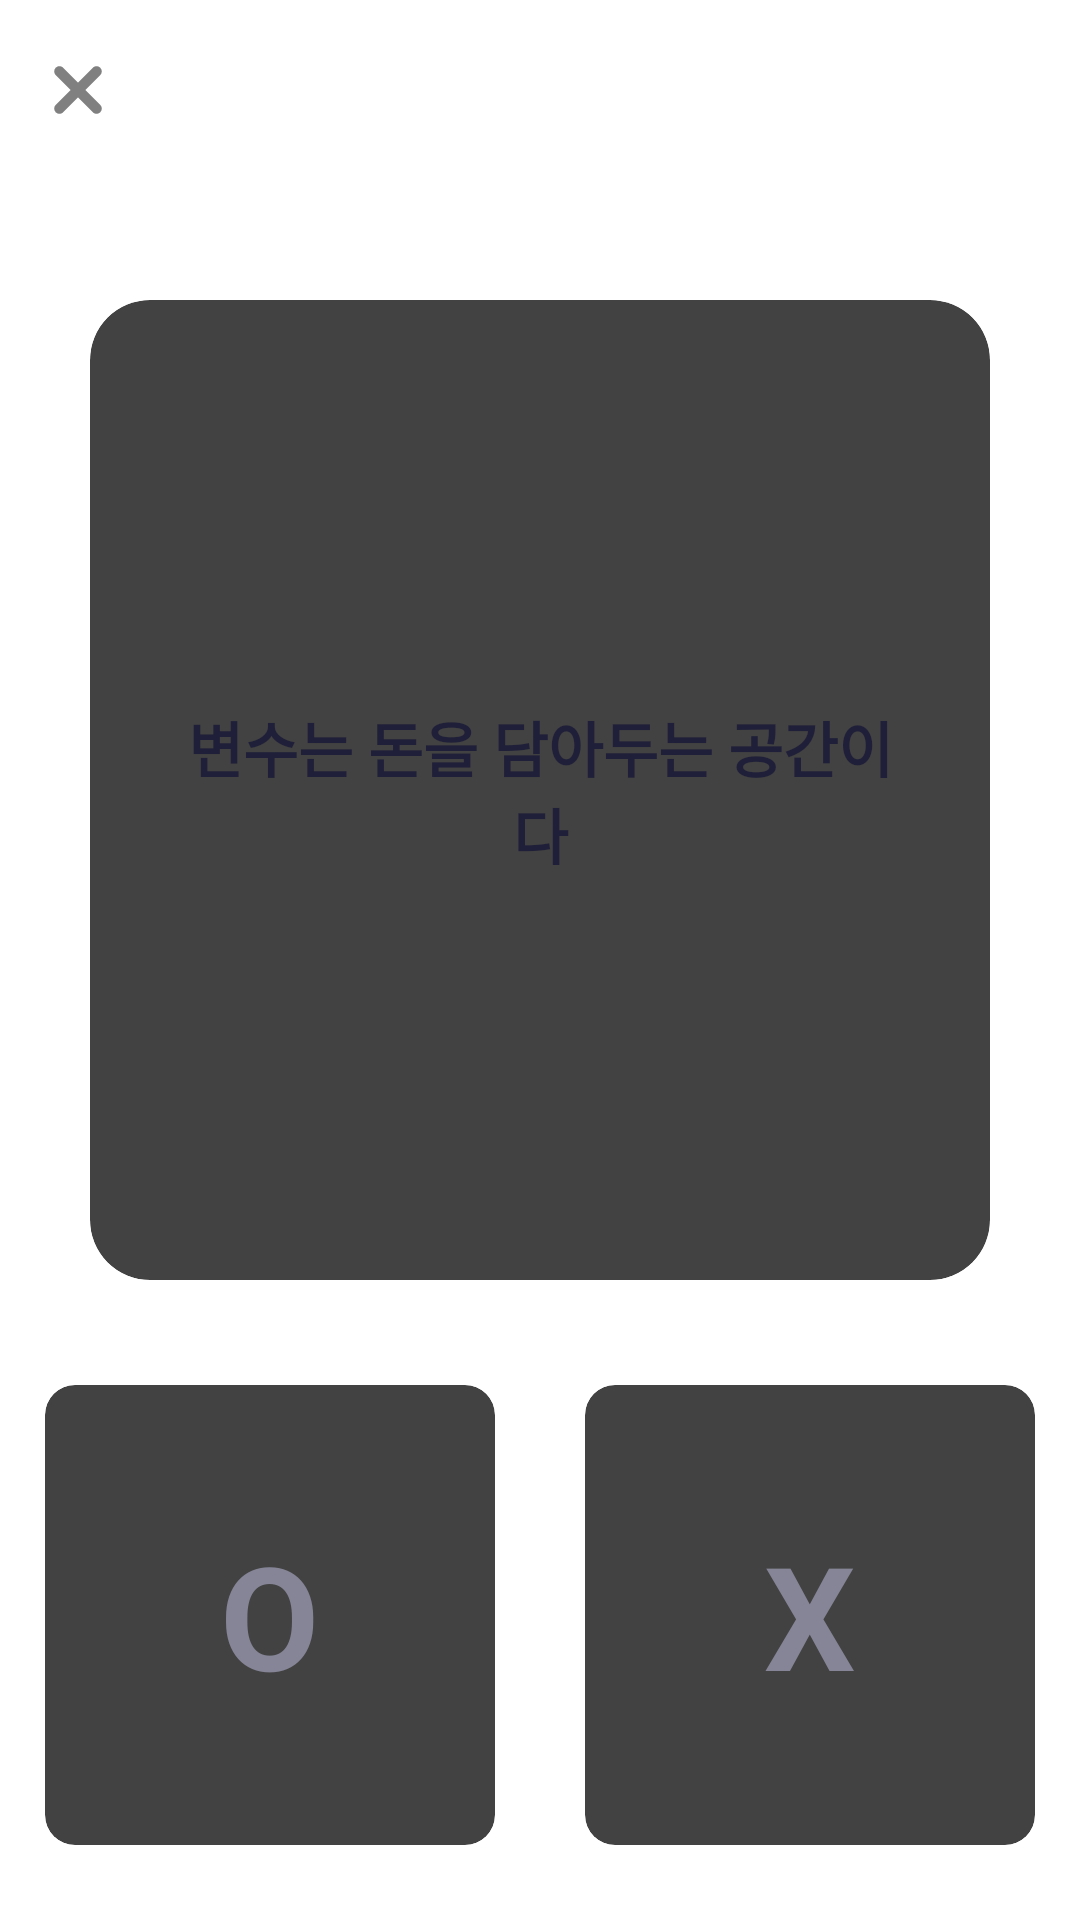

Point at icon controls on the screen. Image size 1080w x 1920h, points as point (x, y).
close: point (78, 90)
